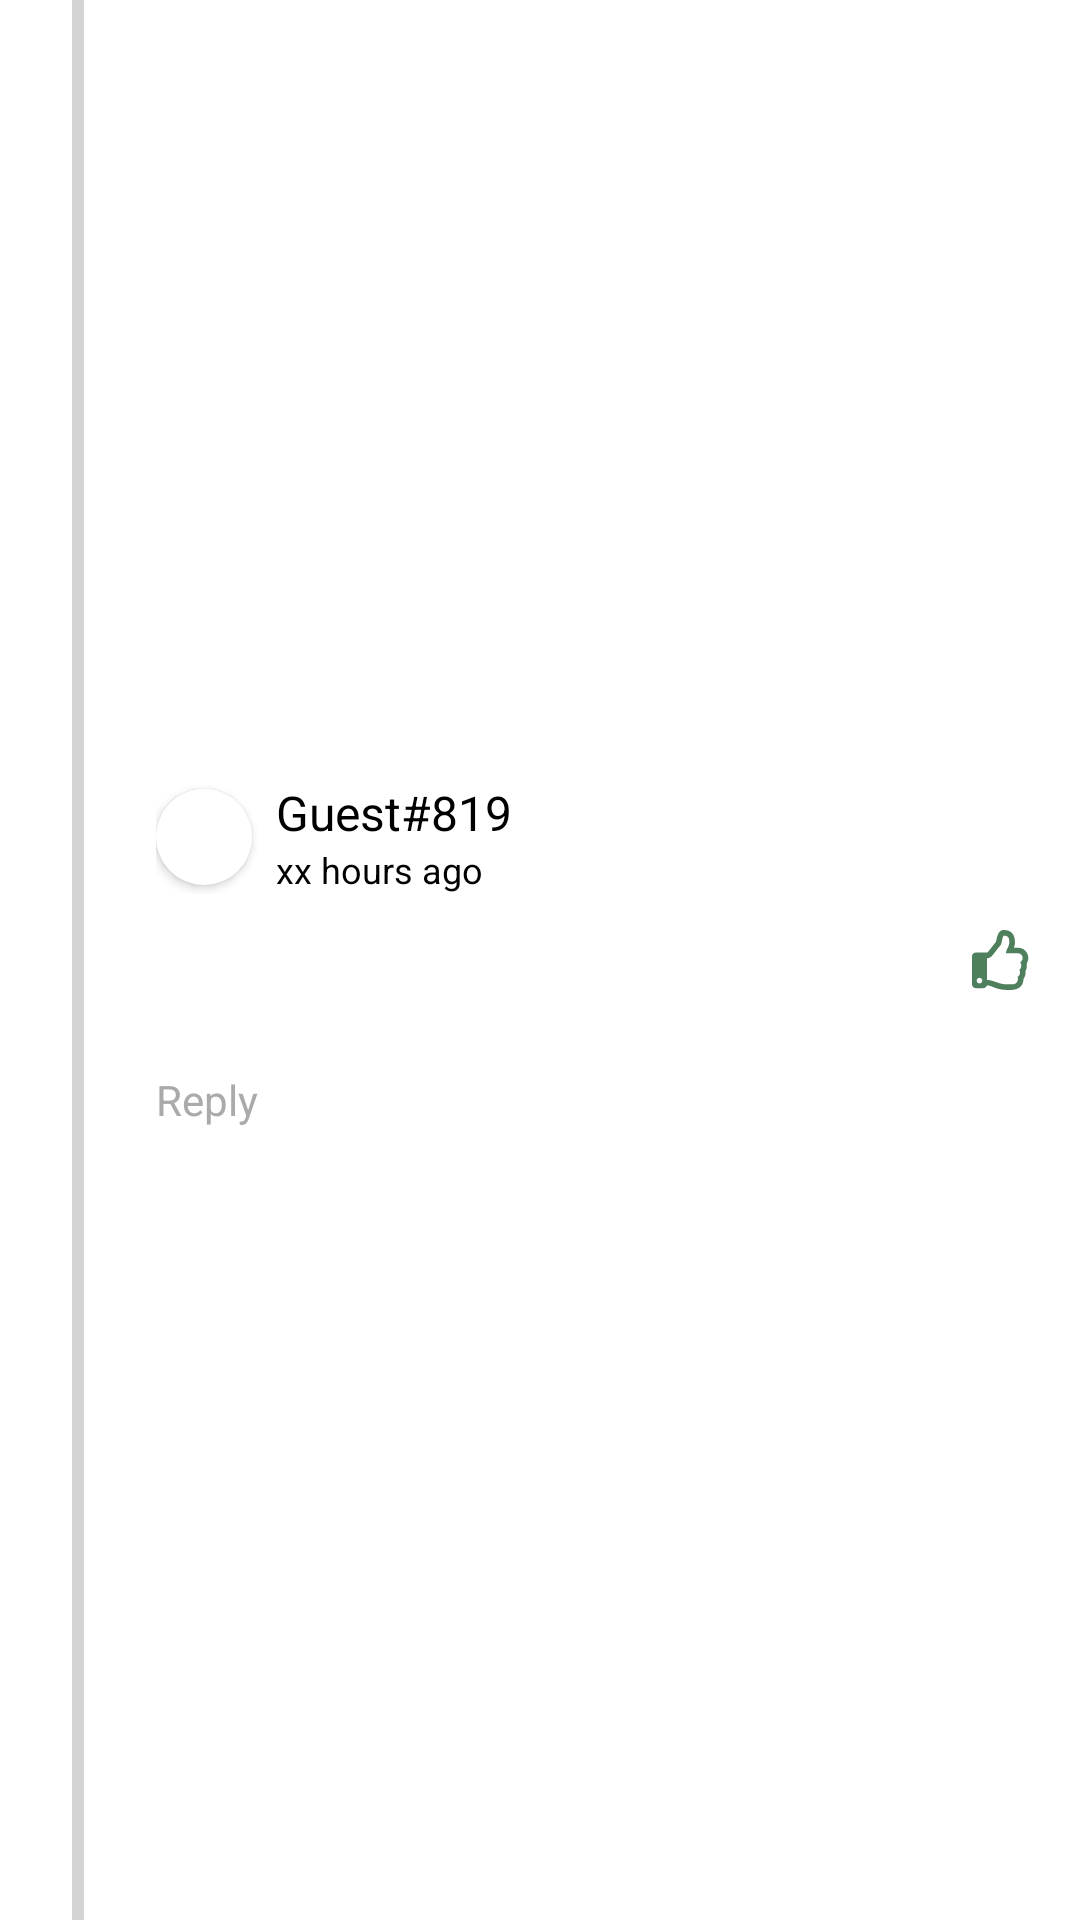

Point at icon controls on the screen. Image size 1080 x 1920, points as [x,y].
thumbs up: [1000,960]
